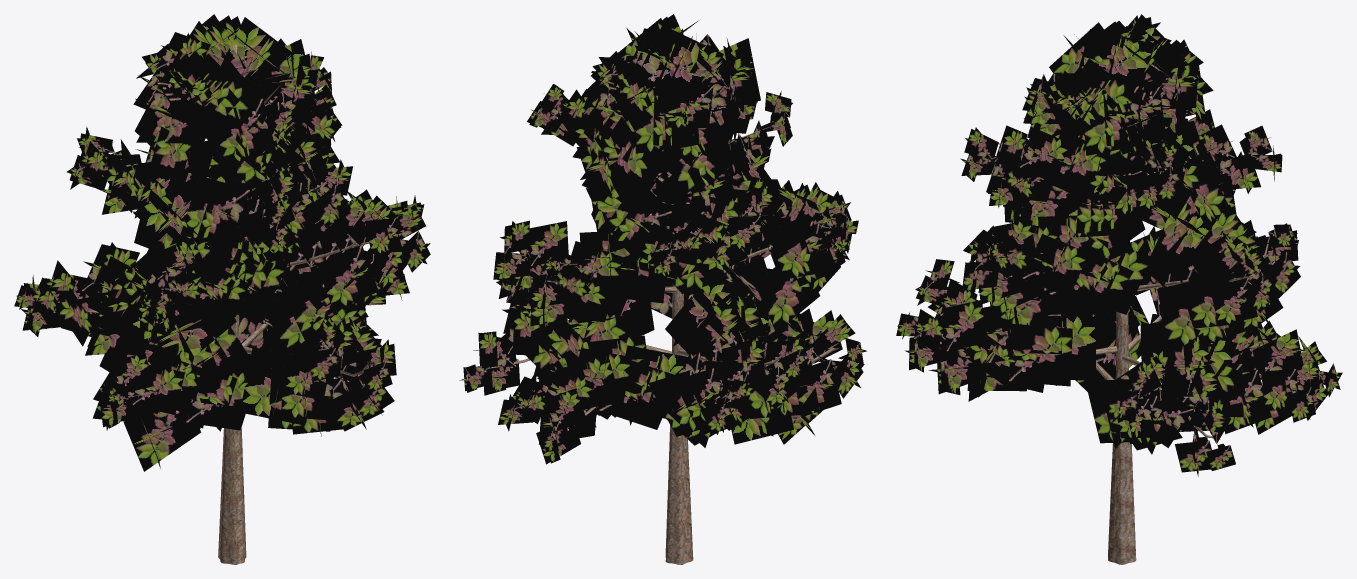
Rendered from tree2_LOD0.fbx.
The picture shows the model from 3 angles, left to right: view 1: azimuth 30°, elevation 25°; view 2: azimuth 150°, elevation 25°; view 3: azimuth 270°, elevation 25°; orthographic projection.
Parts seen in each view (by area): view 1: branch03_2, bark02_0; view 2: branch03_2, bark02_0; view 3: branch03_2, bark02_0.
Boxes of the visible parts, x1,y1,x2,y2 form: branch03_2: (14,14,430,471); bark02_0: (79,44,397,564); branch03_2: (459,14,866,464); bark02_0: (485,33,839,564); branch03_2: (896,14,1342,476); bark02_0: (943,73,1294,564).
Size of the model in its own units: 690 by 1019 by 768.
